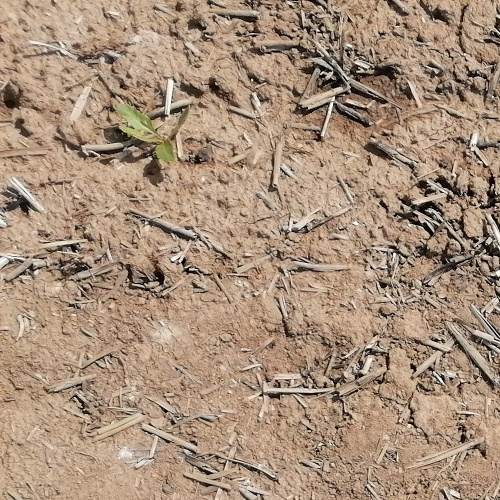beet: (116, 101, 192, 162)
